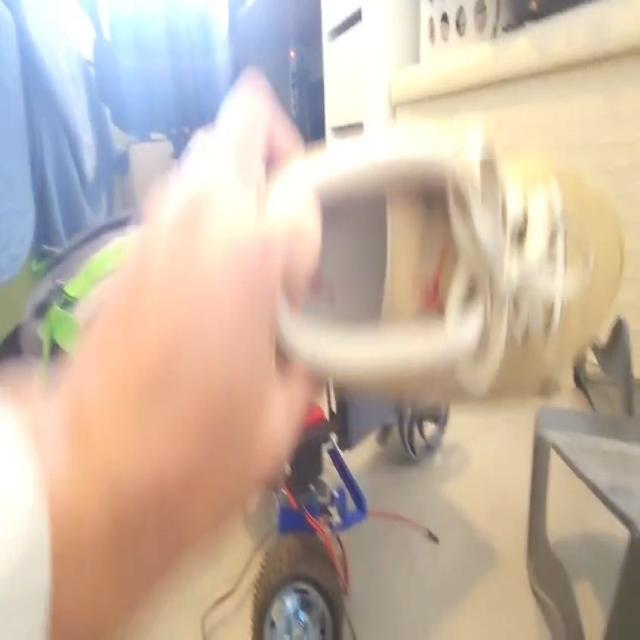Robot: (250, 391, 454, 639)
